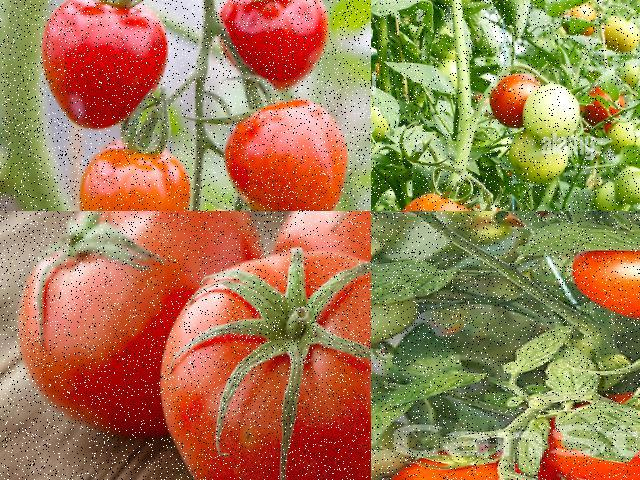tomato: (18, 211, 266, 446), (162, 245, 370, 479), (286, 211, 370, 442), (37, 0, 174, 136), (219, 103, 359, 210), (207, 0, 329, 88), (70, 143, 196, 210), (566, 221, 639, 325), (563, 392, 639, 479), (380, 449, 560, 479), (483, 64, 535, 123), (578, 93, 622, 122)
